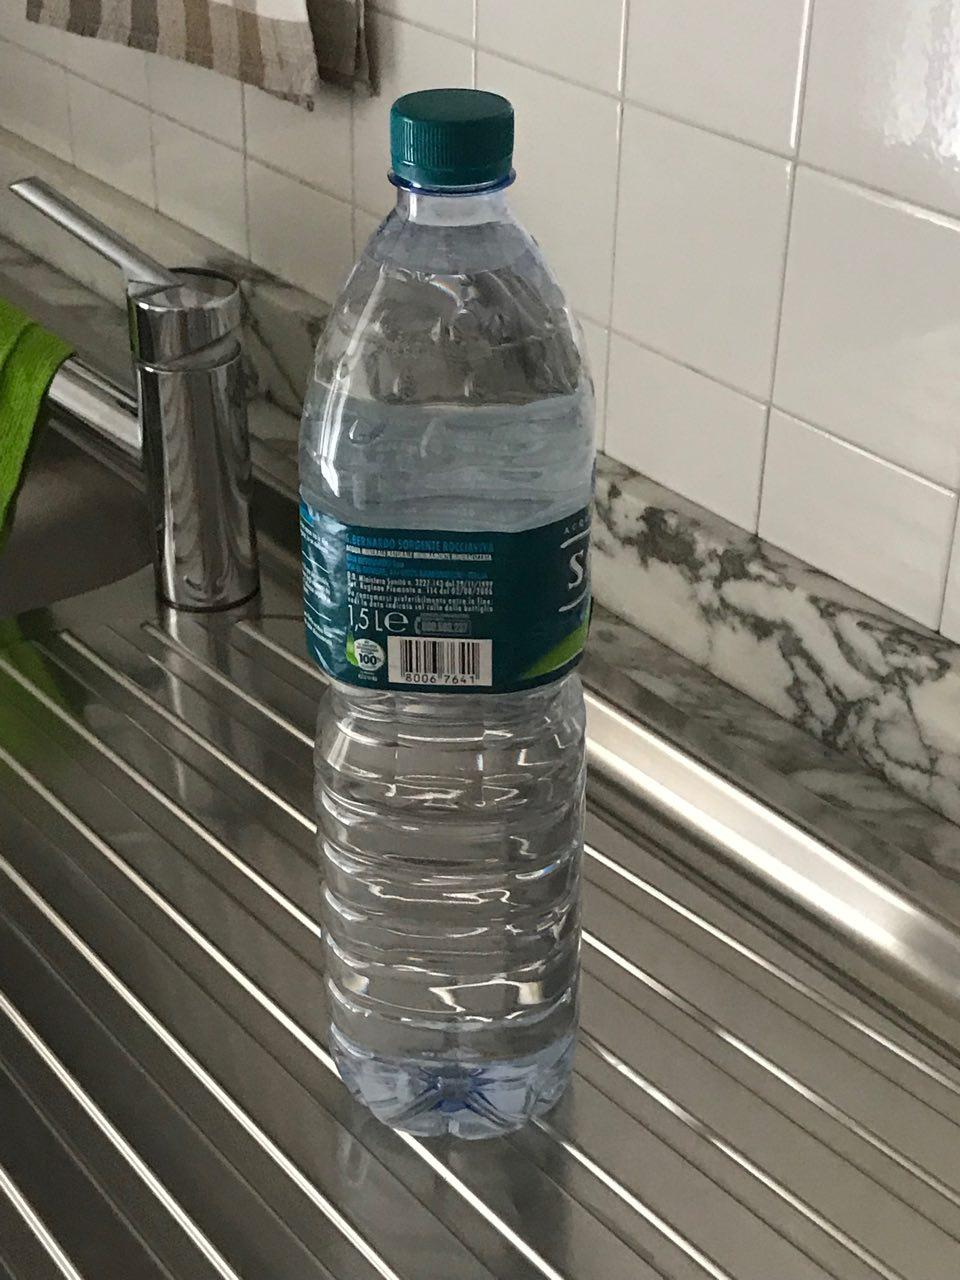san_bernardo: (296, 86, 596, 1142)
